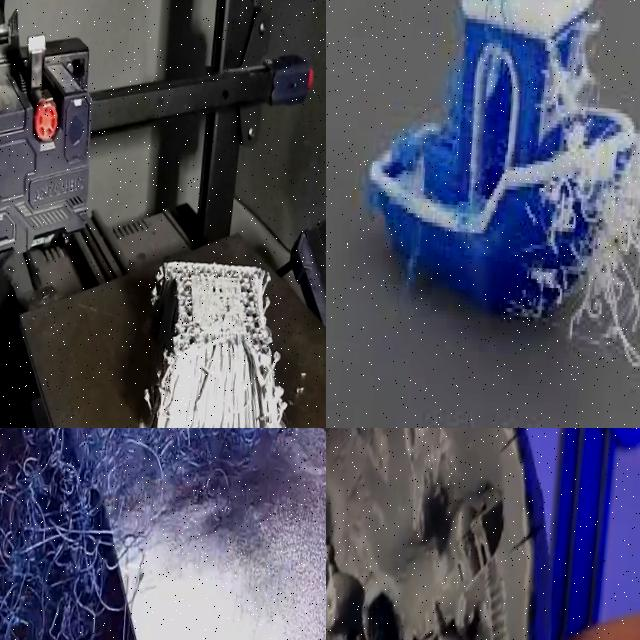spaghetti: (0, 428, 326, 640), (534, 15, 640, 374), (378, 90, 423, 194), (432, 48, 470, 146)
